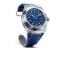watch: (14, 3, 51, 33)
